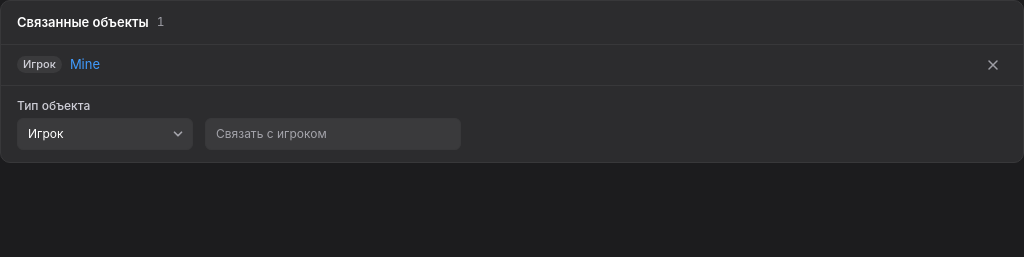
Test case: IssueLinksBlock › surfaces a 403 from the delete endpoint as a Russian message
Click the button named "Удалить связь: Mine" at (993,65), box [979,51,1007,79]
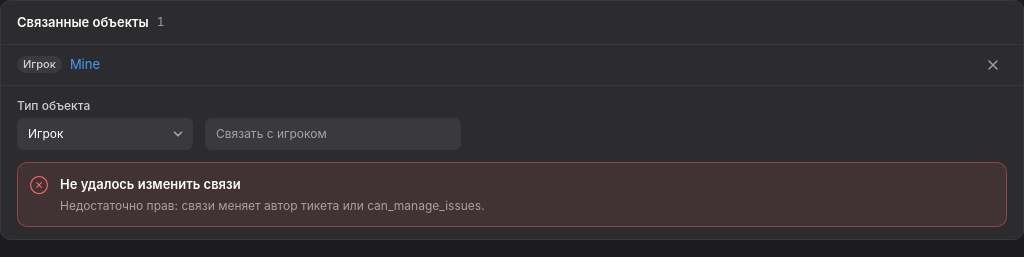
Expected: the text "Недостаточно прав: связи меняет автор тикета или can_manage_issues." is shown, [60,198,485,213]
